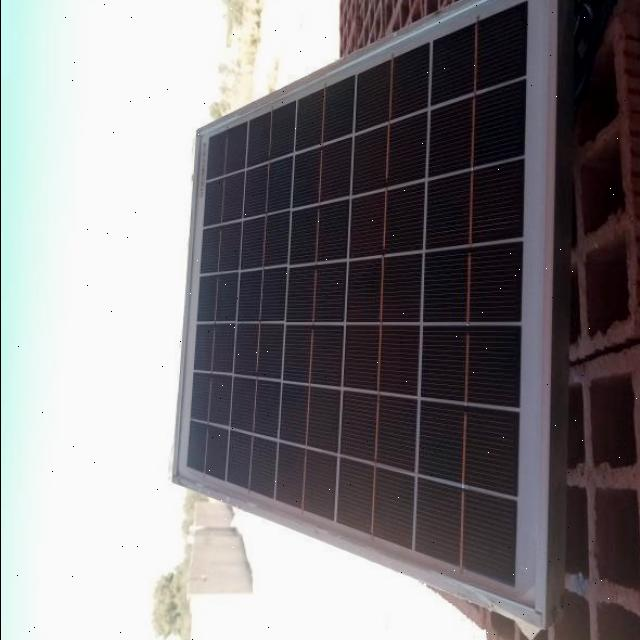Normal Solar Panel: (173, 0, 558, 625)
